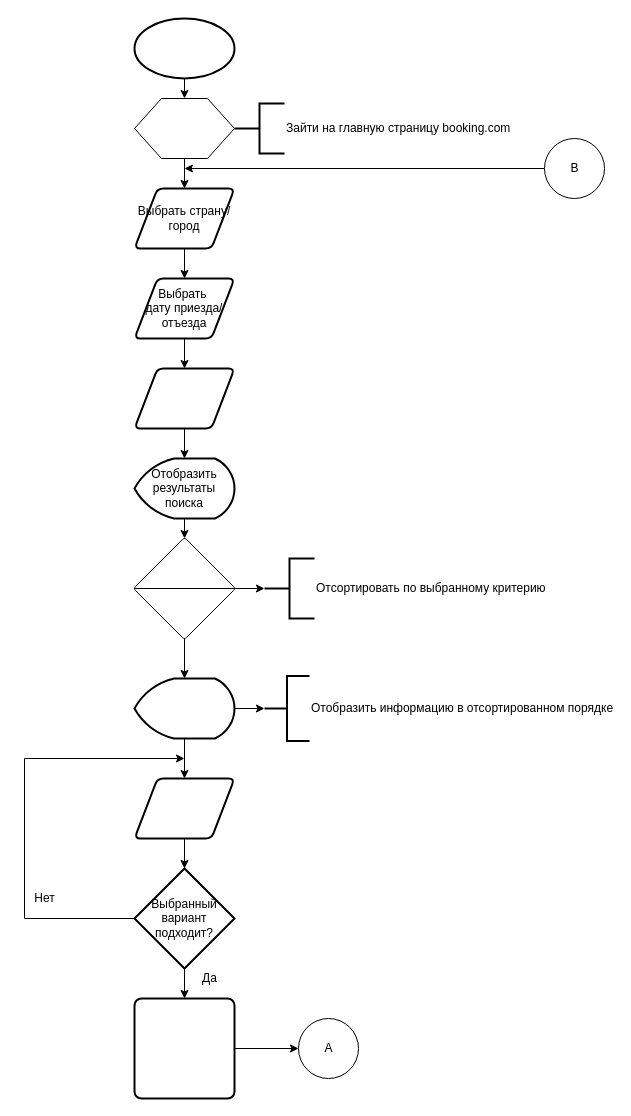
Some shapes in this 631 by 1116 pixel diagram are drawn without their labels. The shapes that lost their labels are listed below. From the top down, each one's centre as x and y in pixels, then its label:
At [184,48]: "Старт".
At [184,398]: "Выбрать состав гостей".
At [184,808]: "Выбрать подходящий вариант".
At [184,1048]: "Перейти к бронированию выбранного варианта".
